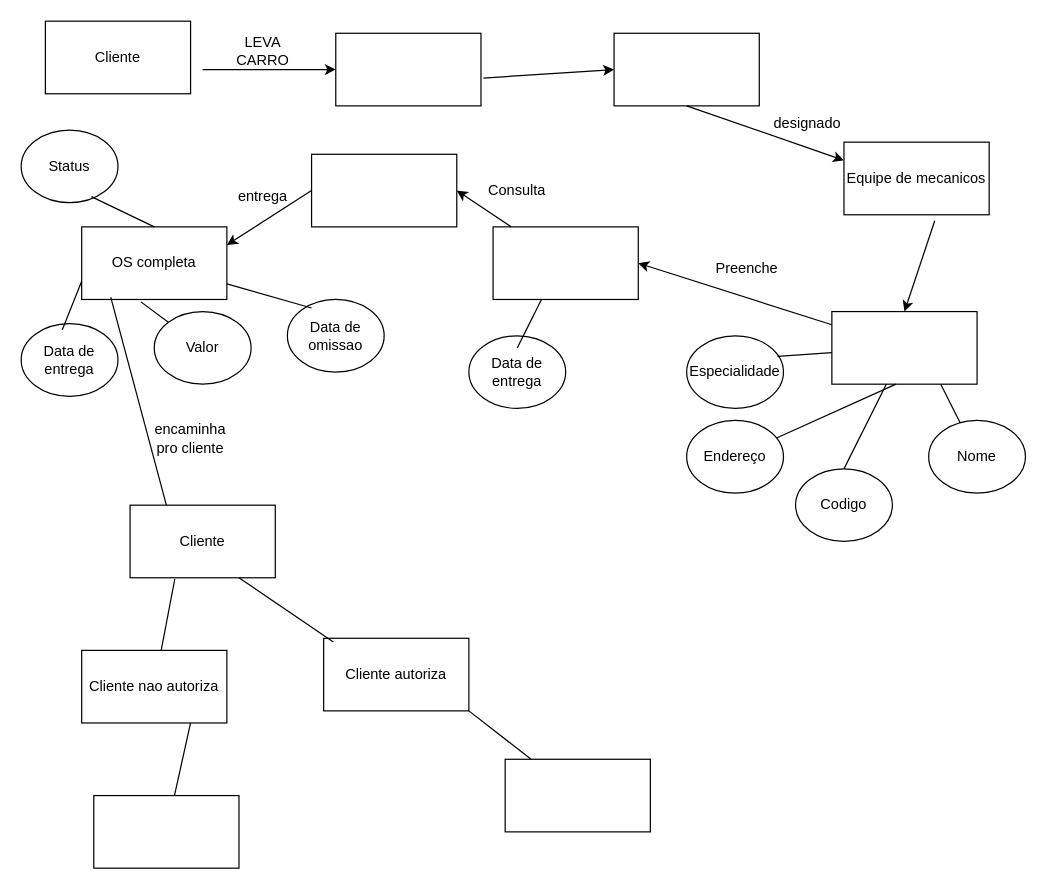
Image size: 1047x889. Some labels were removed from this diagram. The shapes that lost their labels are listed below. From the top down, each one's centre as x and y in pixels, then its label:
At point (408, 69): "Oficina".
At point (686, 69): "Carro".
At point (383, 190): "Tabela de referencia de mao de obra".
At point (565, 262): "OS".
At point (904, 347): "Mecanicos".
At point (577, 795): "Equipe executa o serviço".
At point (166, 831): "Não fazem o serviço e devolvem o carro".
